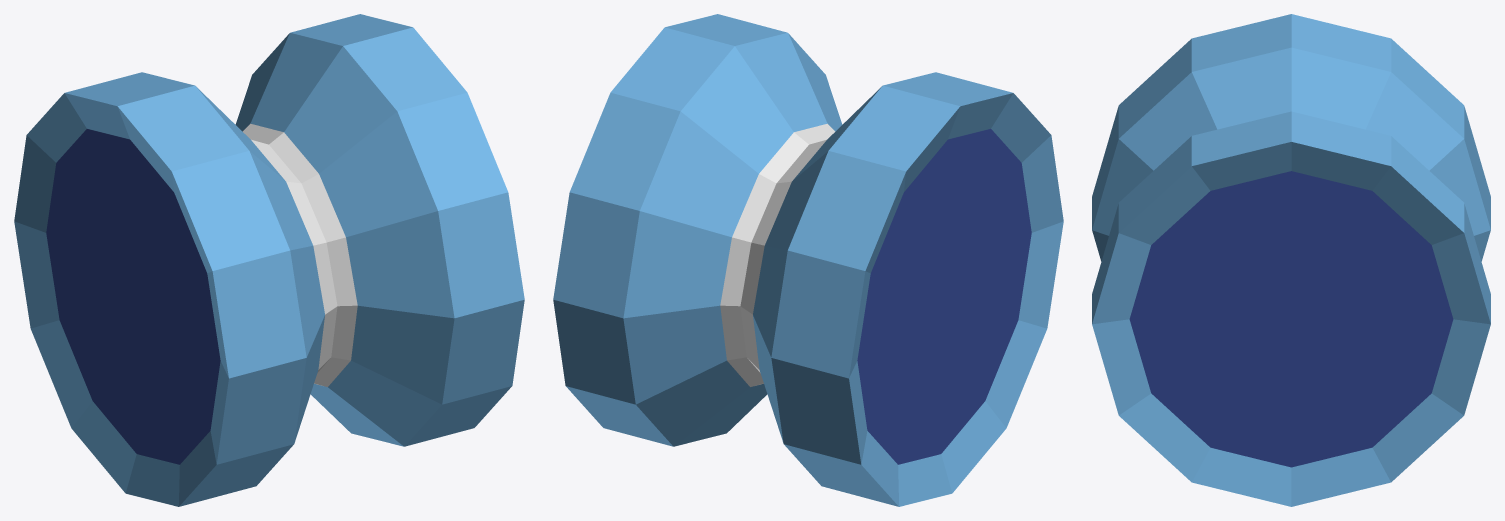
The model's file is Item_Yoyo.fbx.
3 renders of one model, left to right at view 1: azimuth 30°, elevation 25°; view 2: azimuth 150°, elevation 25°; view 3: azimuth 270°, elevation 25°, orthographic. The views are drawn at different scales.
Visible parts, largest first — view 1: Cylinder; view 2: Cylinder; view 3: Cylinder.
Part boxes in pixels (x1,y1,x2,y2): Cylinder: [14, 14, 524, 506]; Cylinder: [553, 14, 1063, 506]; Cylinder: [1092, 14, 1490, 506].
Bounding box in the file's own units: 25 × 31.13 × 30.6.
